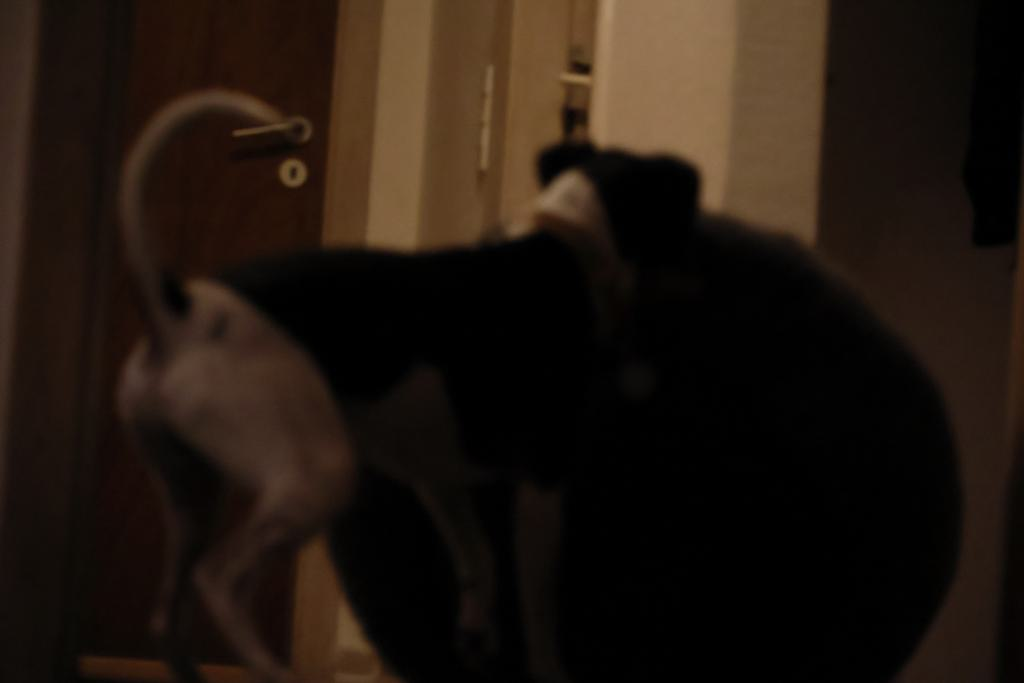Dog: (90, 75, 721, 683)
